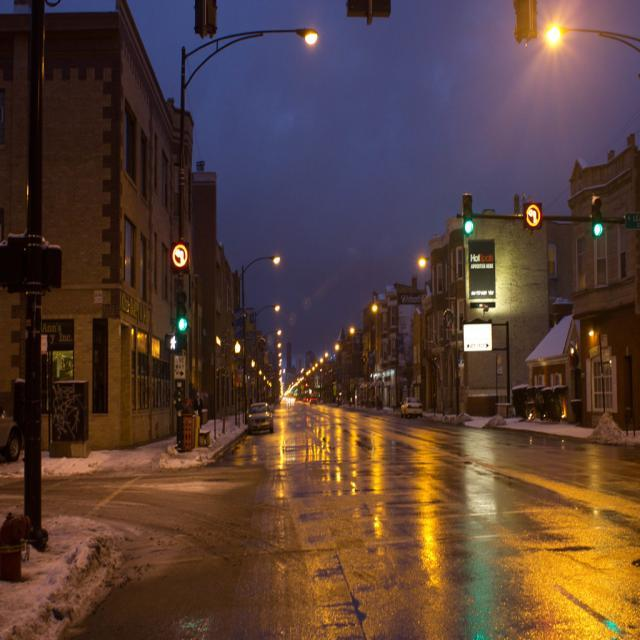traffic light: (462, 191, 475, 235), (591, 195, 604, 237), (176, 289, 188, 334)
